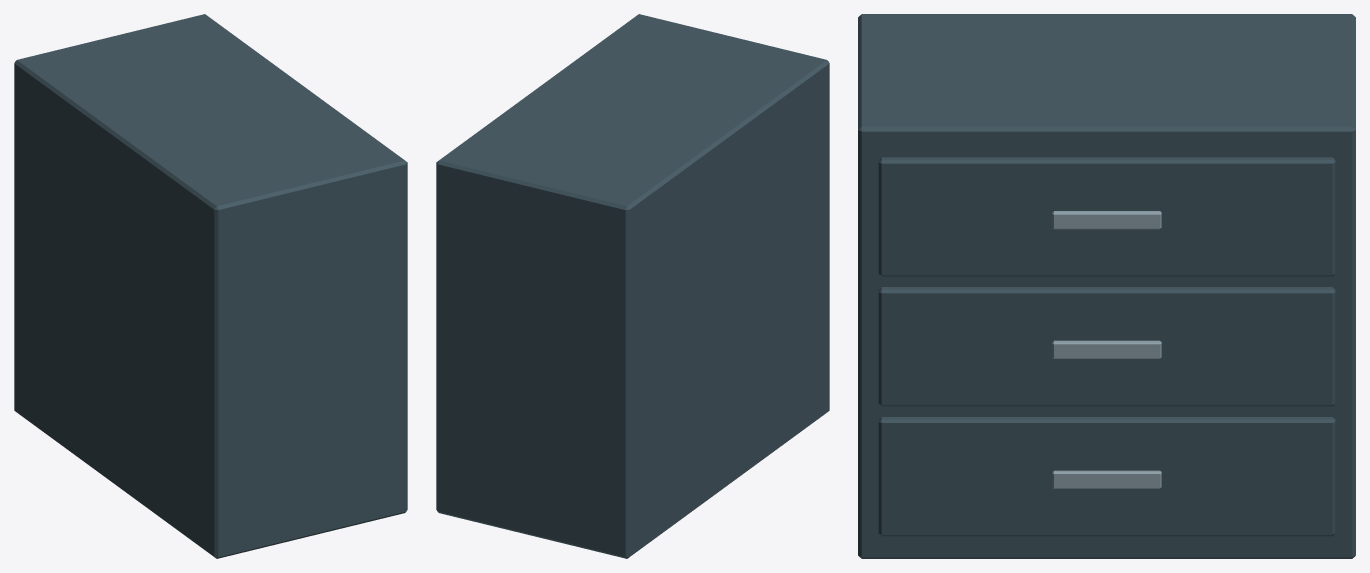
Rendered from commode_perimetre.glb.
The picture shows the model from 3 angles, left to right: view 1: azimuth 30°, elevation 25°; view 2: azimuth 150°, elevation 25°; view 3: azimuth 270°, elevation 25°; orthographic projection. The views are drawn at different scales.
Parts seen in each view (by area): view 1: commode_perimetre; view 2: commode_perimetre; view 3: commode_perimetre.
Boxes of the visible parts, x1,y1,x2,y2 form: commode_perimetre: (14,14,407,558); commode_perimetre: (436,14,829,558); commode_perimetre: (858,14,1355,558).
Bounding box in the file's own units: 0.7 × 1.15 × 1.2.
Materials: 1 (1 with a texture image).
